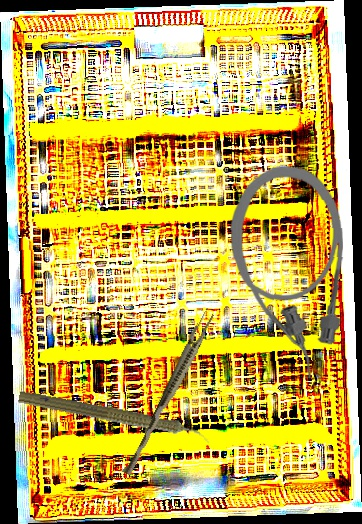Cannula: (228, 163, 348, 381)
Handpiece: (16, 387, 213, 448)
Tissue Forceps: (121, 308, 216, 479)
